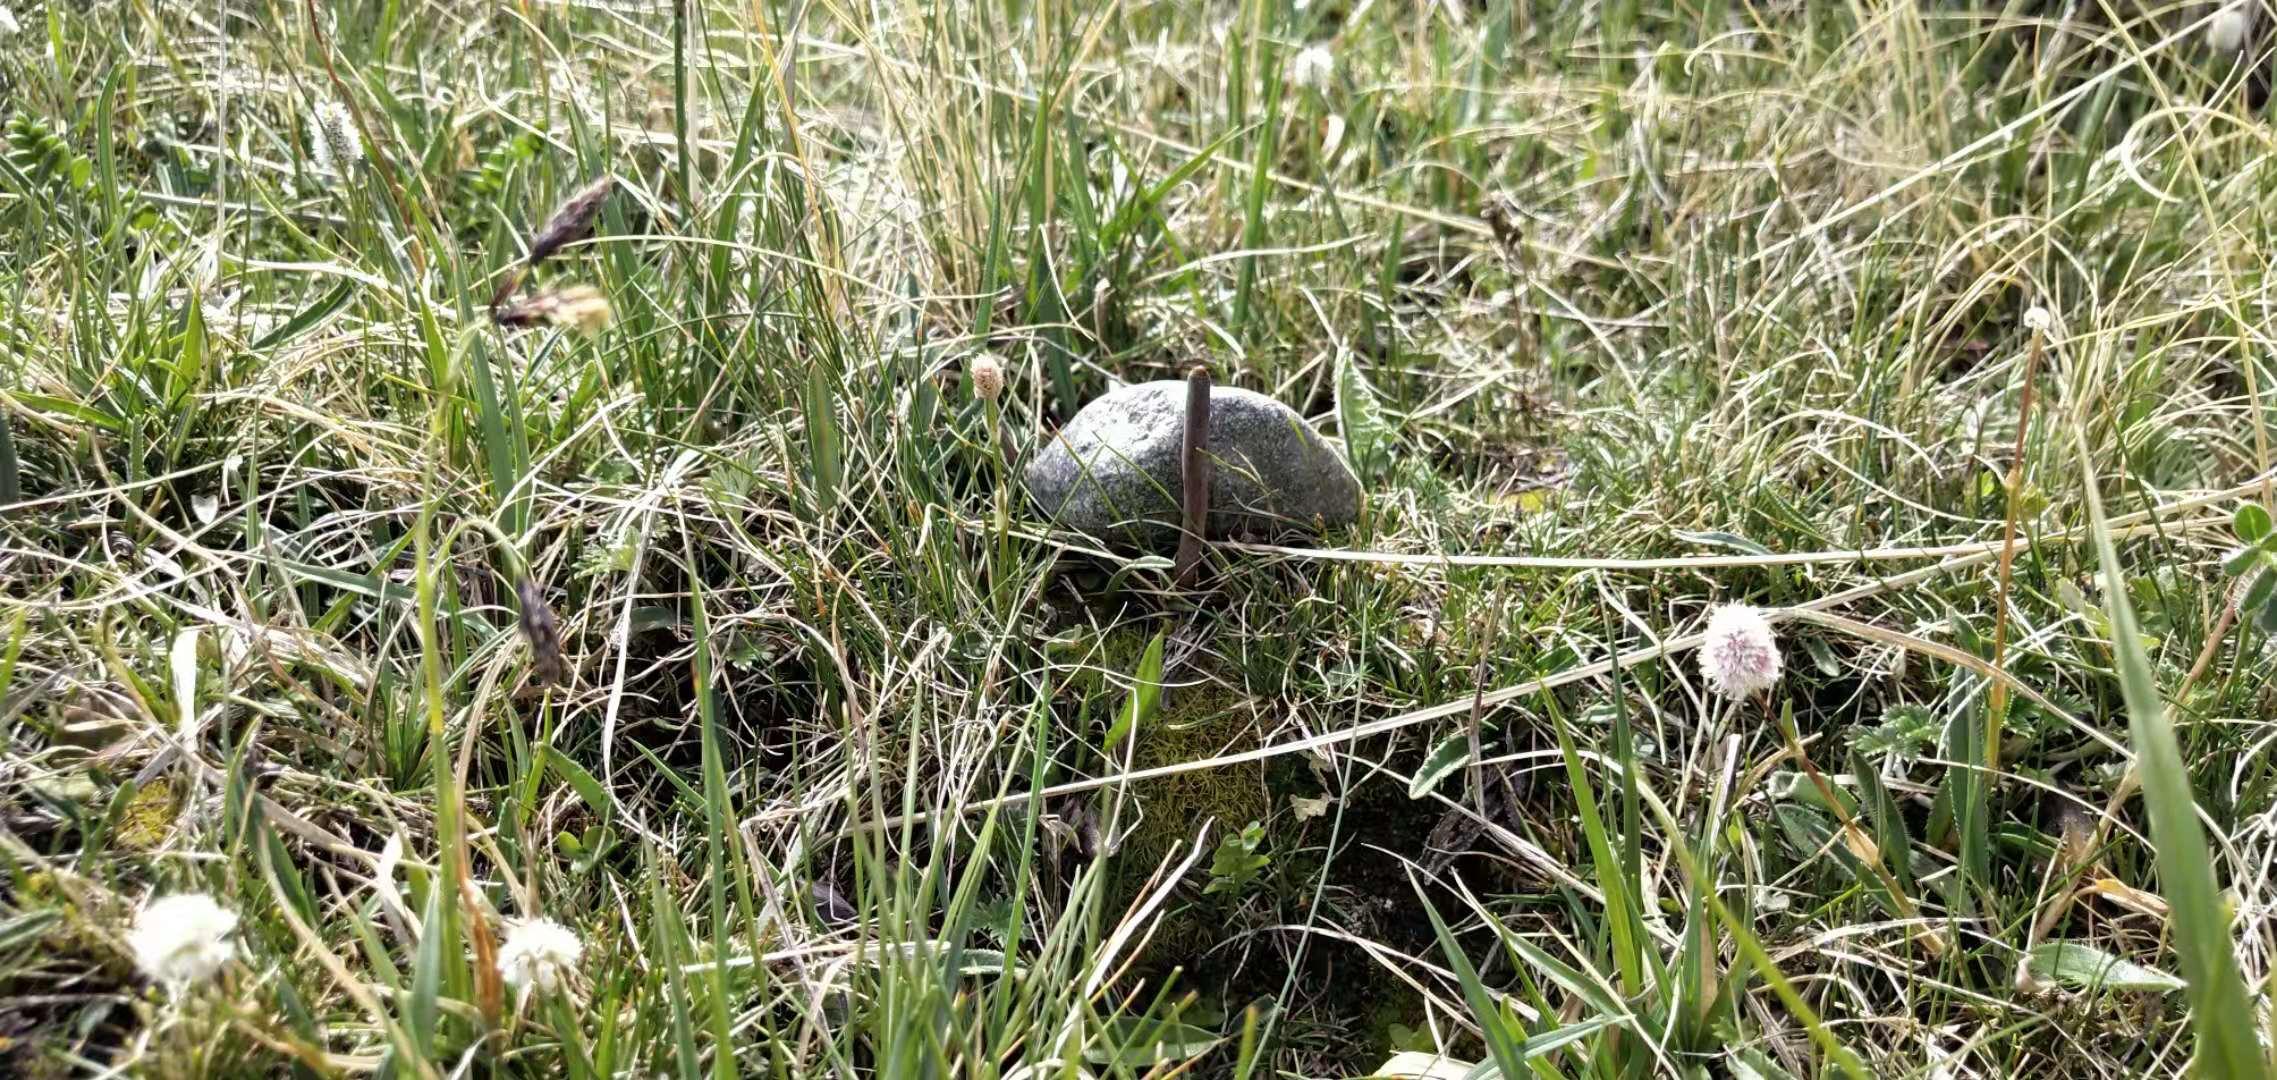w: (1173, 364, 1211, 582)
